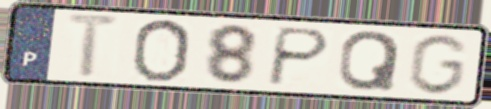8: (204, 22, 263, 86)
G: (404, 32, 471, 97)
O: (128, 17, 194, 84)
P: (263, 25, 334, 88)
Q: (336, 29, 404, 93)
T: (63, 11, 126, 81)
